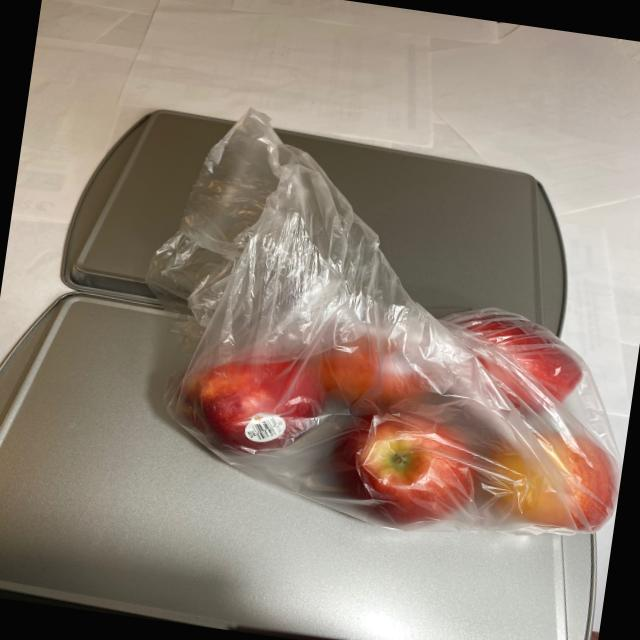apple: (152, 254, 638, 556)
